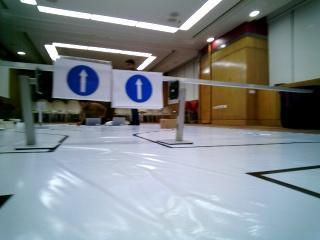straight: (53, 60, 109, 99), (111, 67, 161, 107)
